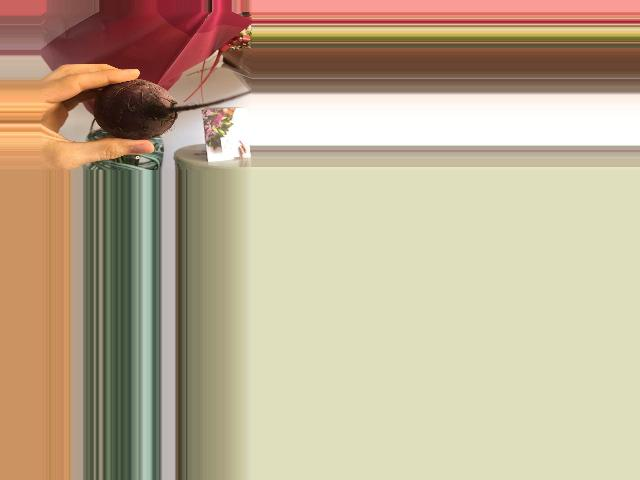beet: (91, 79, 253, 140)
